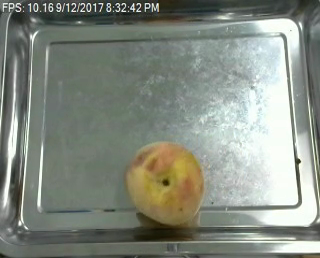Peach: (125, 140, 205, 226)
